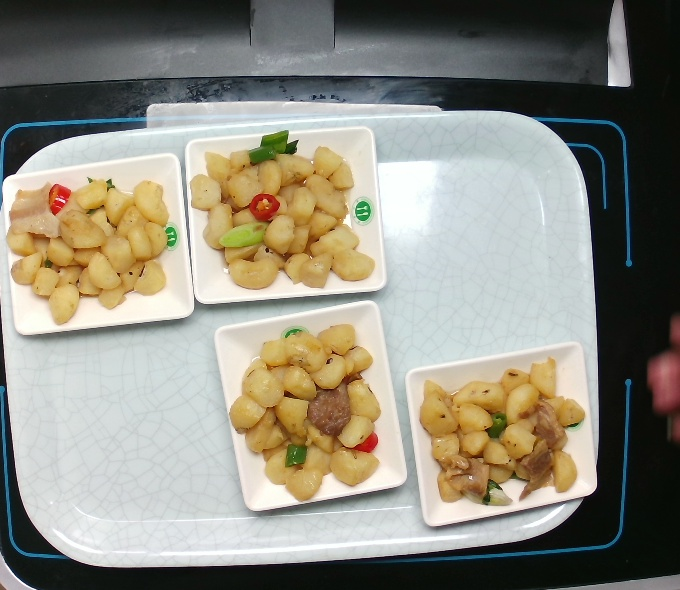wcq-MaTiGuoChaoRou: (227, 321, 384, 502), (8, 175, 194, 325), (190, 141, 376, 291), (413, 357, 599, 507)
